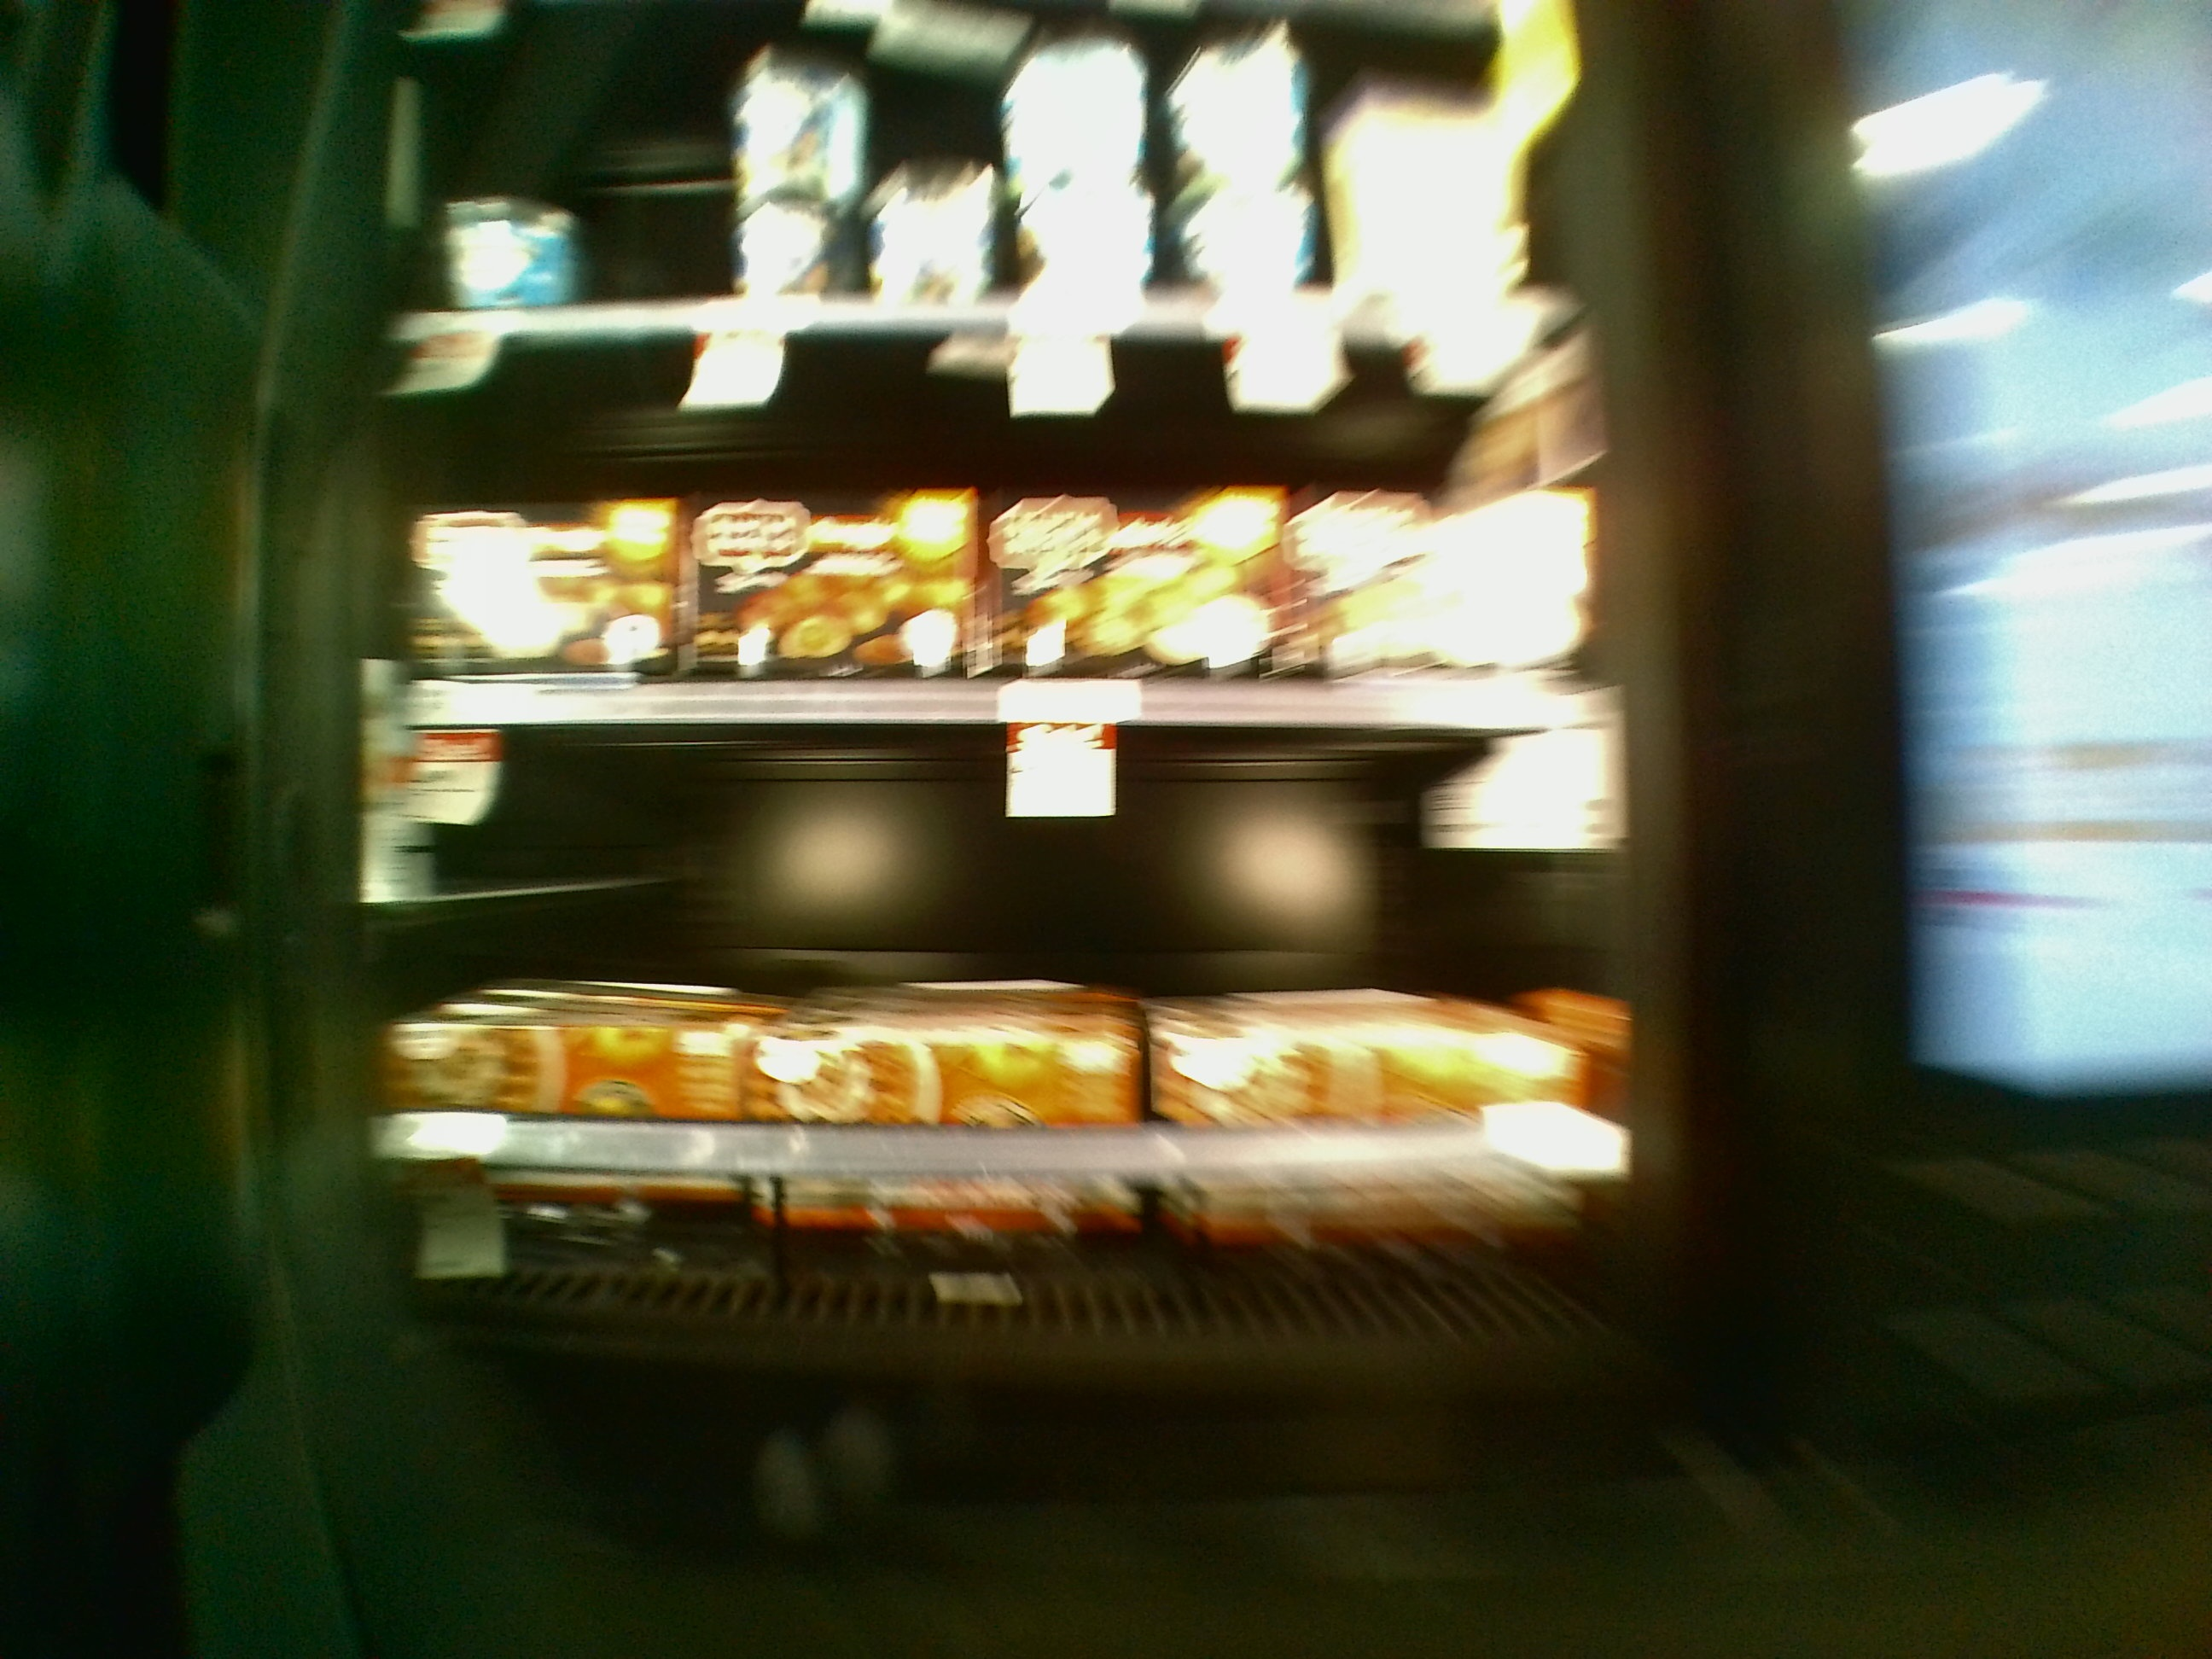shelf: (383, 713, 1655, 1345), (388, 342, 1630, 735)
